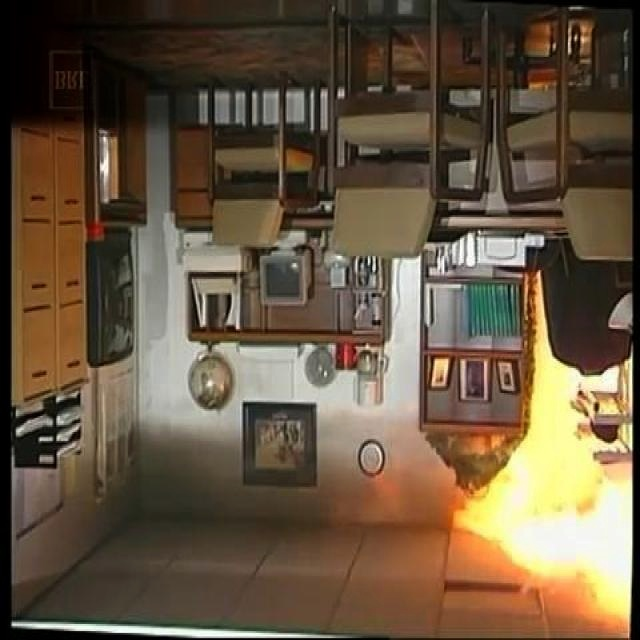fire: (462, 479, 640, 629)
